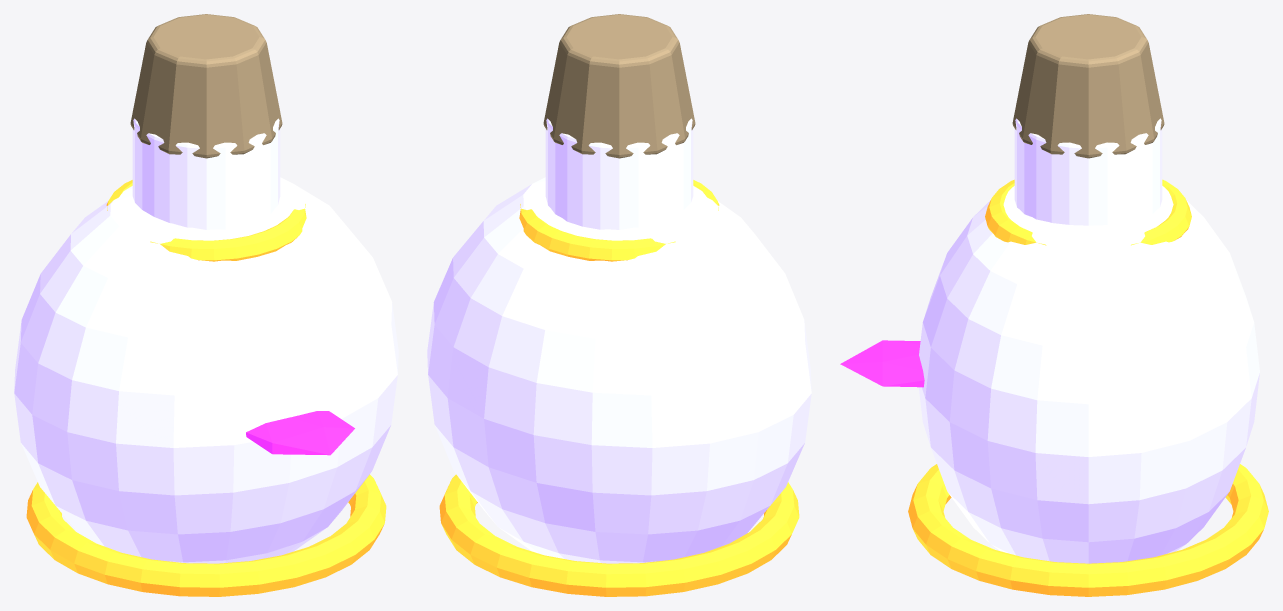
Rendered from fairy_fizz.glb.
3 views of the same model, side by side, from view 1: azimuth 30°, elevation 25°; view 2: azimuth 150°, elevation 25°; view 3: azimuth 270°, elevation 25° (orthographic).
Parts seen in each view (by area): view 1: Bottle.001, Cork.001, Torus.006, Neck.001, ShieldGem.001, Torus.005; view 2: Bottle.001, Cork.001, Torus.006, Neck.001, Torus.005; view 3: Bottle.001, Cork.001, Torus.006, Neck.001, Torus.005, ShieldGem.001.
Part boxes in pixels (box(x1,y1,x2,y2)): Bottle.001: box(14, 177, 398, 563); Cork.001: box(130, 14, 282, 158); Torus.006: box(26, 474, 386, 596); Neck.001: box(132, 118, 280, 229); ShieldGem.001: box(246, 411, 354, 455); Torus.005: box(106, 180, 306, 261); Bottle.001: box(427, 177, 811, 563); Cork.001: box(543, 14, 695, 158); Torus.006: box(439, 474, 799, 596); Neck.001: box(545, 118, 693, 229); Torus.005: box(519, 180, 719, 261); Bottle.001: box(918, 186, 1259, 563); Cork.001: box(1012, 14, 1164, 158); Torus.006: box(908, 464, 1268, 596); Neck.001: box(1014, 118, 1162, 225); Torus.005: box(985, 179, 1191, 245); ShieldGem.001: box(840, 340, 924, 387).
Bounding box in the file's own units: 1.36 × 1.97 × 1.45.
